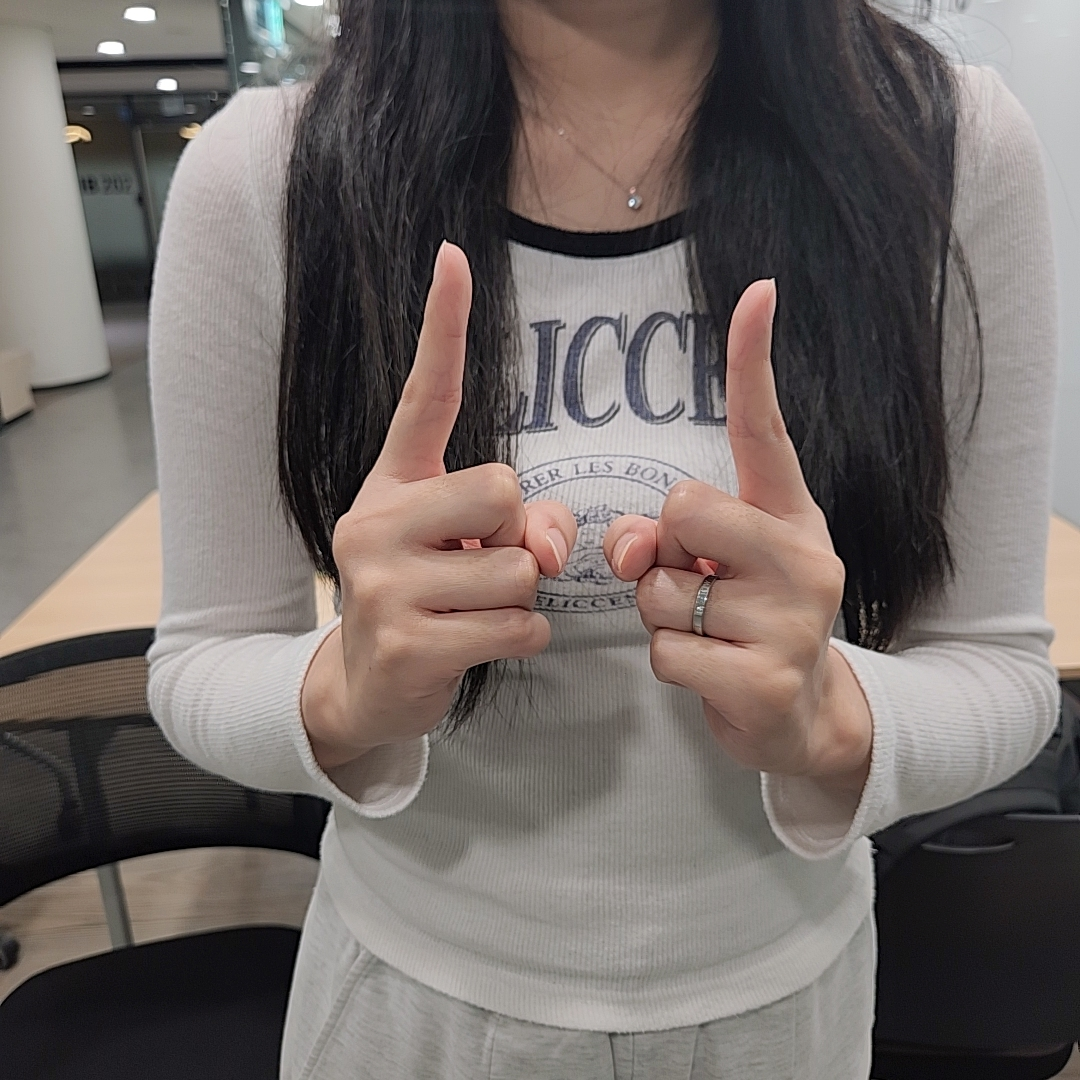meet: (332, 238, 845, 782)
